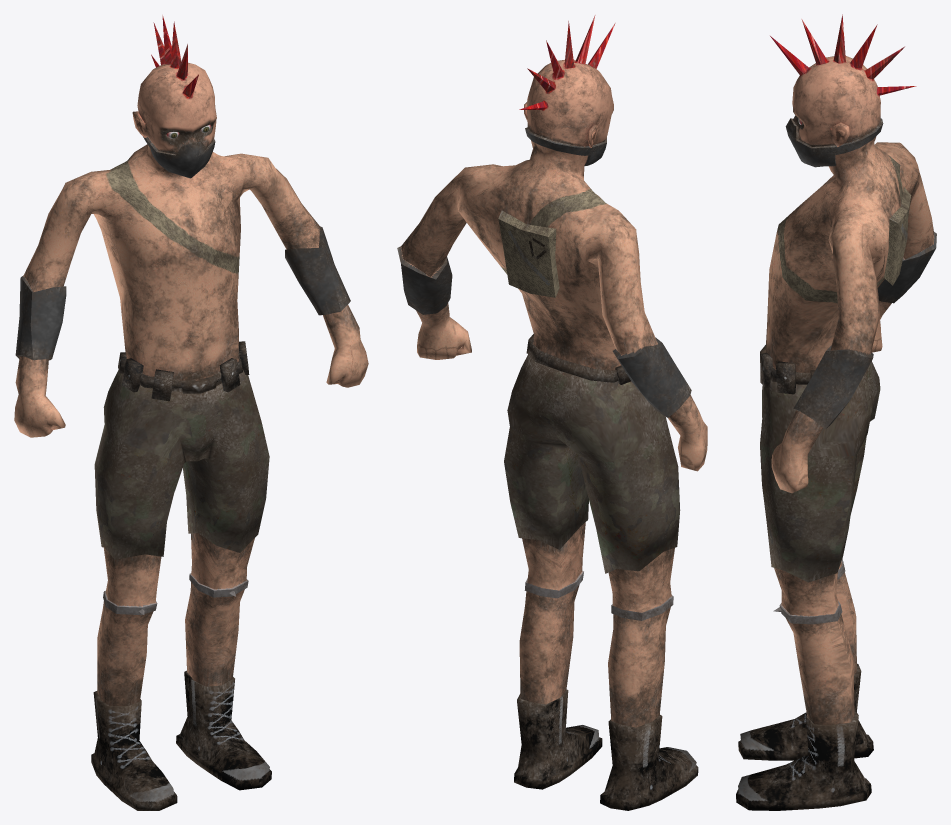
File: Anim_recibirdanyo_1_npc2.0014.obj
3 renders of one model, left to right at view 1: azimuth 30°, elevation 25°; view 2: azimuth 150°, elevation 25°; view 3: azimuth 270°, elevation 25°, orthographic. The views are drawn at different scales.
Visible parts, largest first — view 1: polySurface1; view 2: polySurface1; view 3: polySurface1.
Boxes of the visible parts, x1,y1,x2,y2 form: polySurface1: [14, 15, 368, 810]; polySurface1: [397, 15, 707, 810]; polySurface1: [736, 14, 936, 810].
Size of the model in its own units: 4.48 by 10.1 by 2.39.
Materials: 2 (2 with a texture image).
